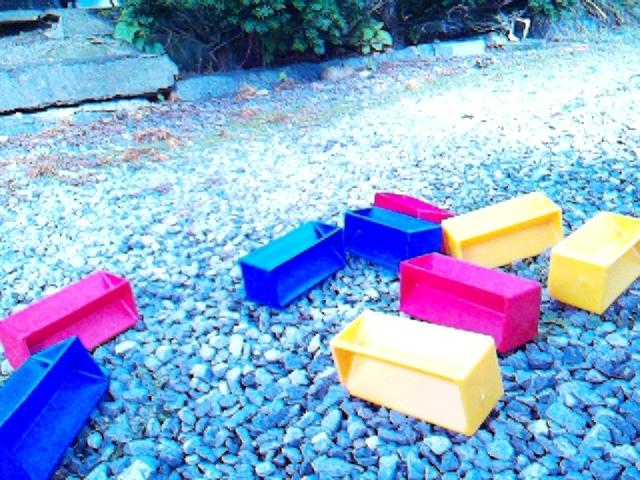blue: (1, 335, 111, 480), (238, 219, 348, 310), (343, 205, 444, 272)
red: (398, 251, 543, 355), (1, 269, 140, 371), (372, 191, 455, 224)
yellow: (329, 309, 505, 437), (548, 210, 640, 316), (441, 191, 564, 269)
